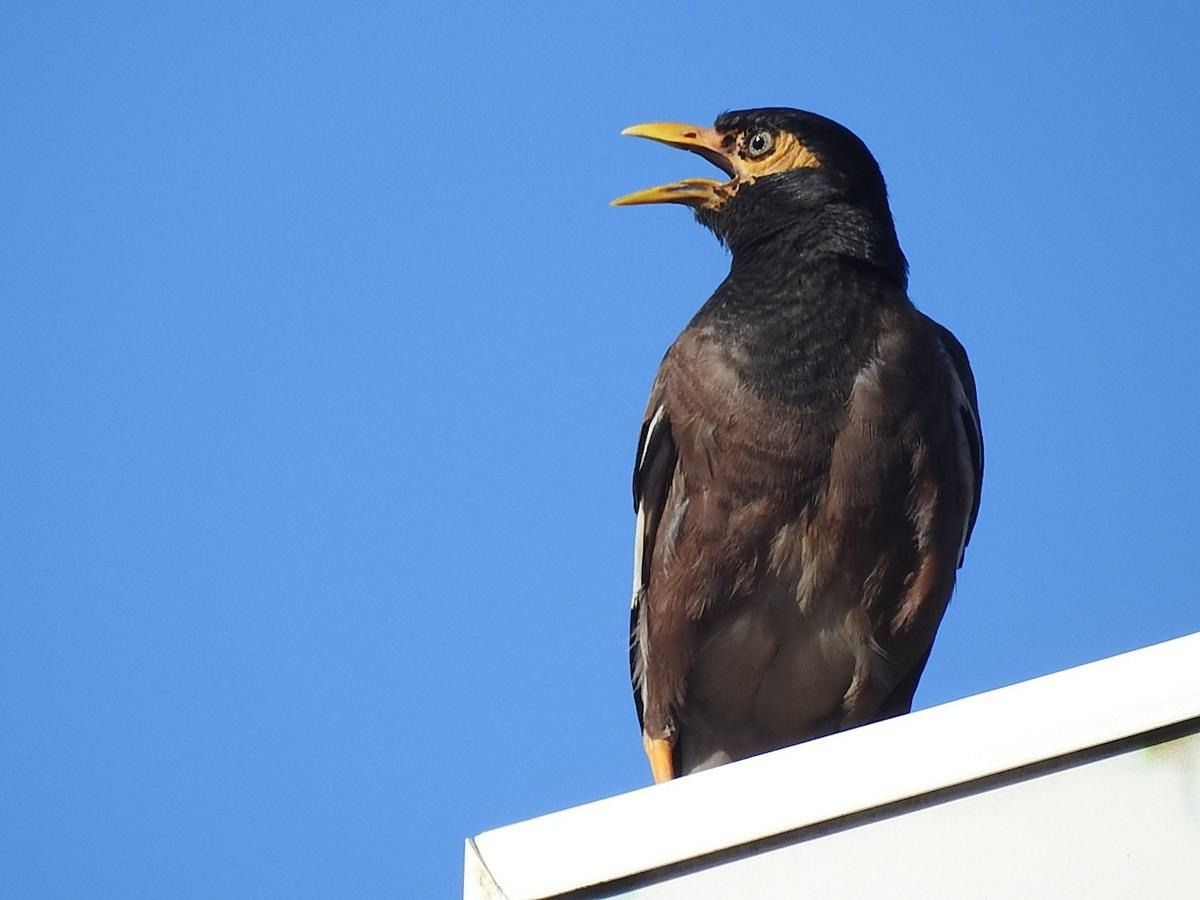myna: (576, 47, 1017, 811)
